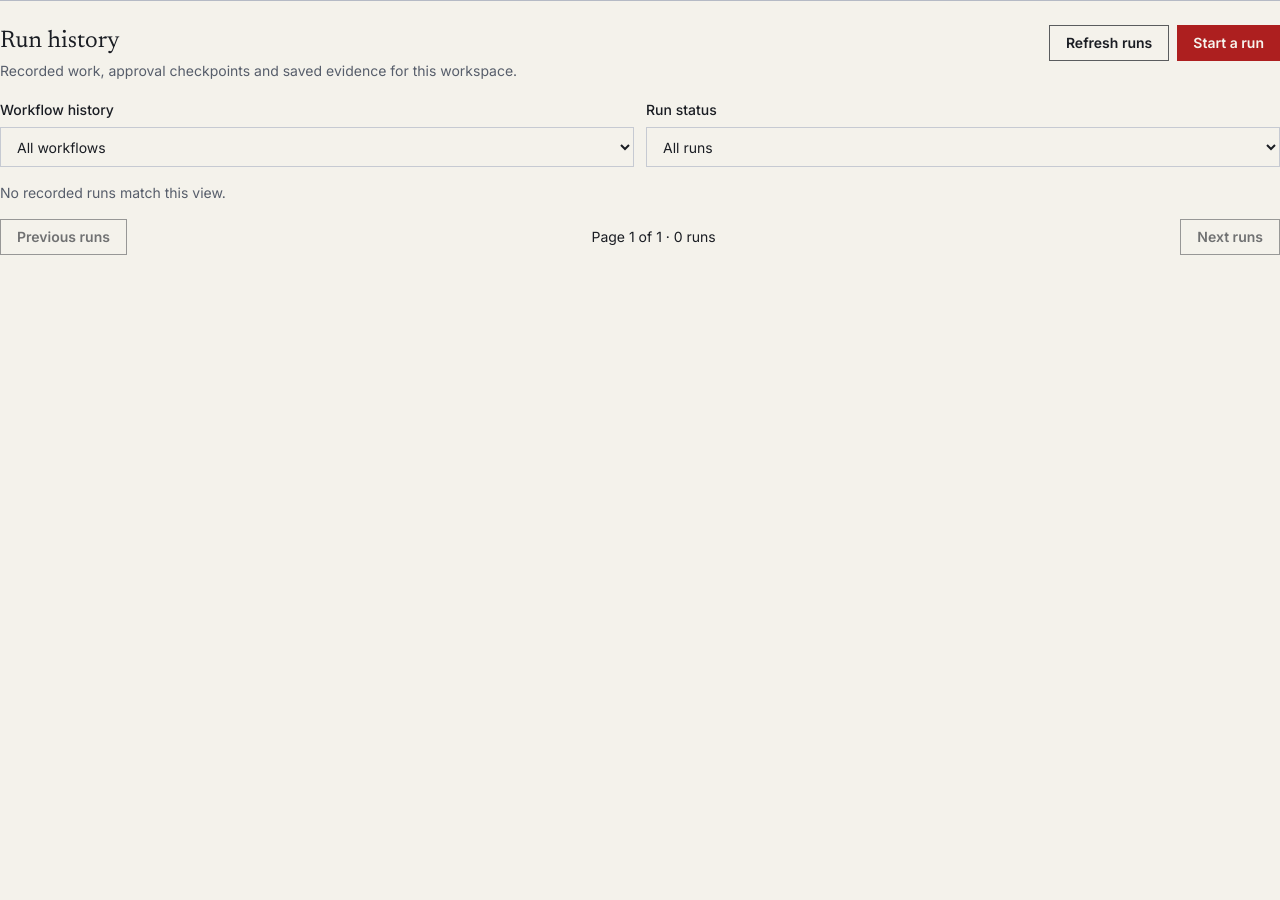
workflow run history and start › starts a saved workflow and opens the server snapshot with a mission link
Click the button "Start a run".
click(1229, 43)  # box [1177,25,1279,61]
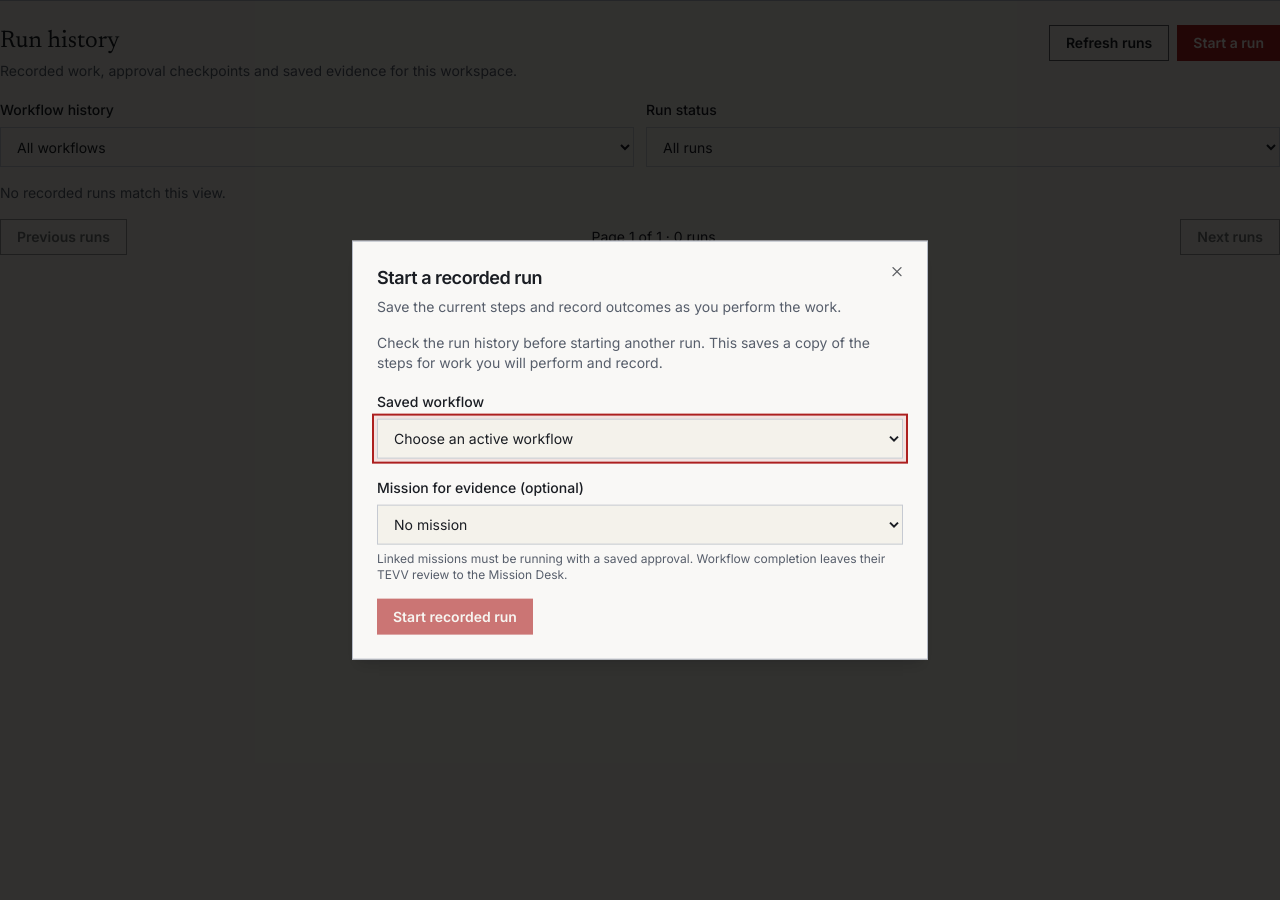
Select "Weekly check" in the dropdown labelled "Saved workflow" at x=640, y=438, box [377,418,903,458]
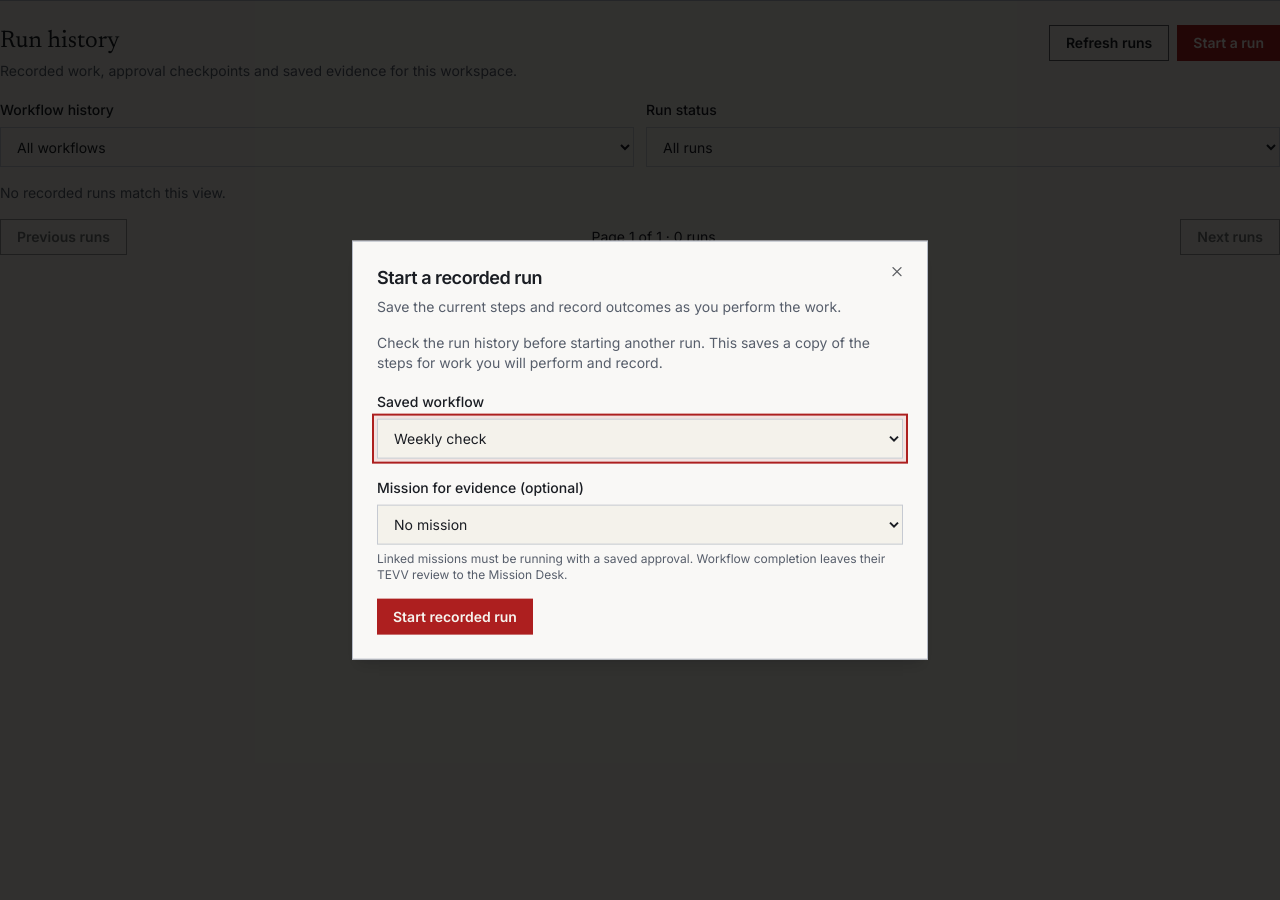
Result: the dropdown labelled "Mission for evidence (optional)" is enabled
Select "Measured mission" in the dropdown labelled "Mission for evidence (optional)" at x=640, y=524, box [377,504,903,544]
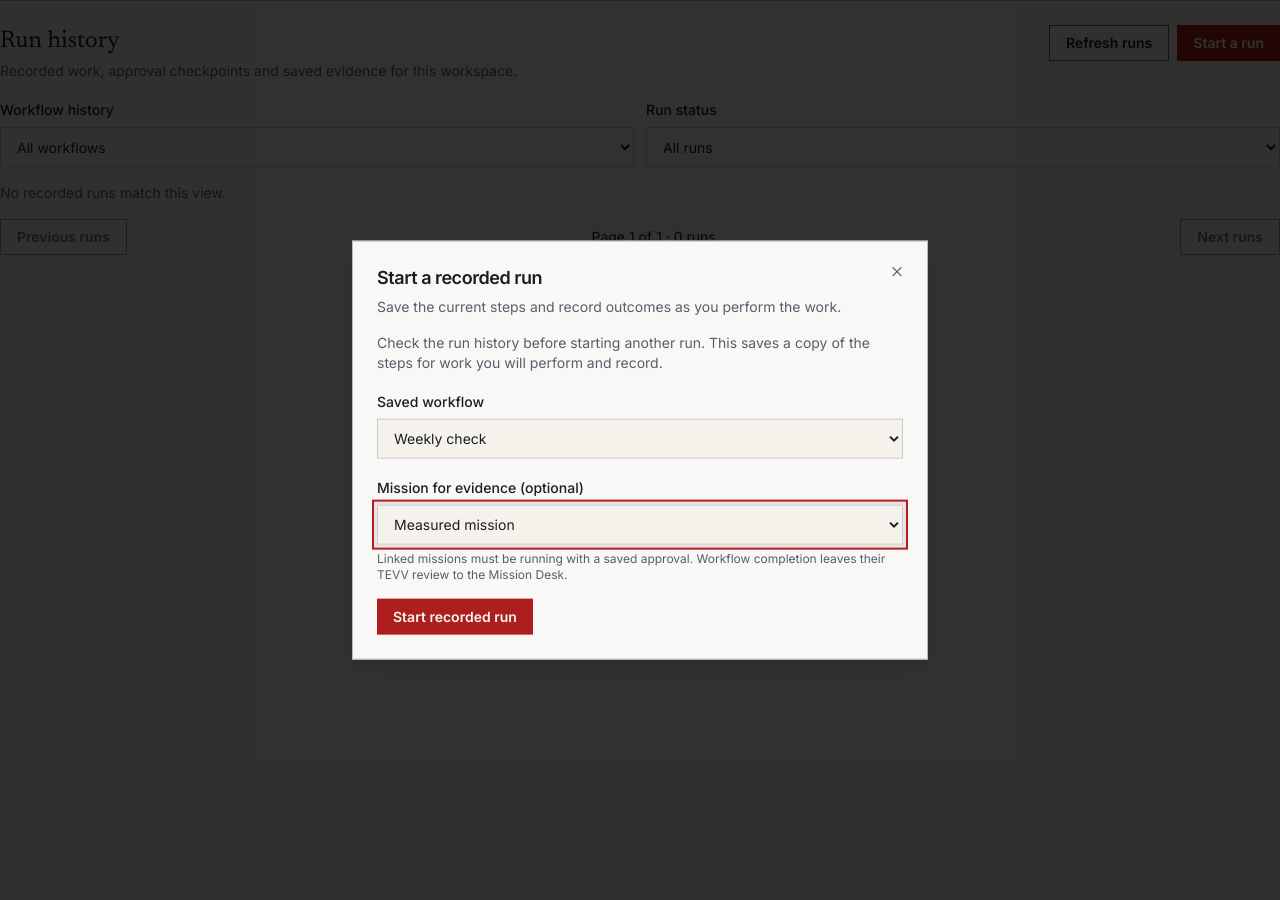
Click the button "Start recorded run".
click(455, 616)  # box [377,598,533,634]
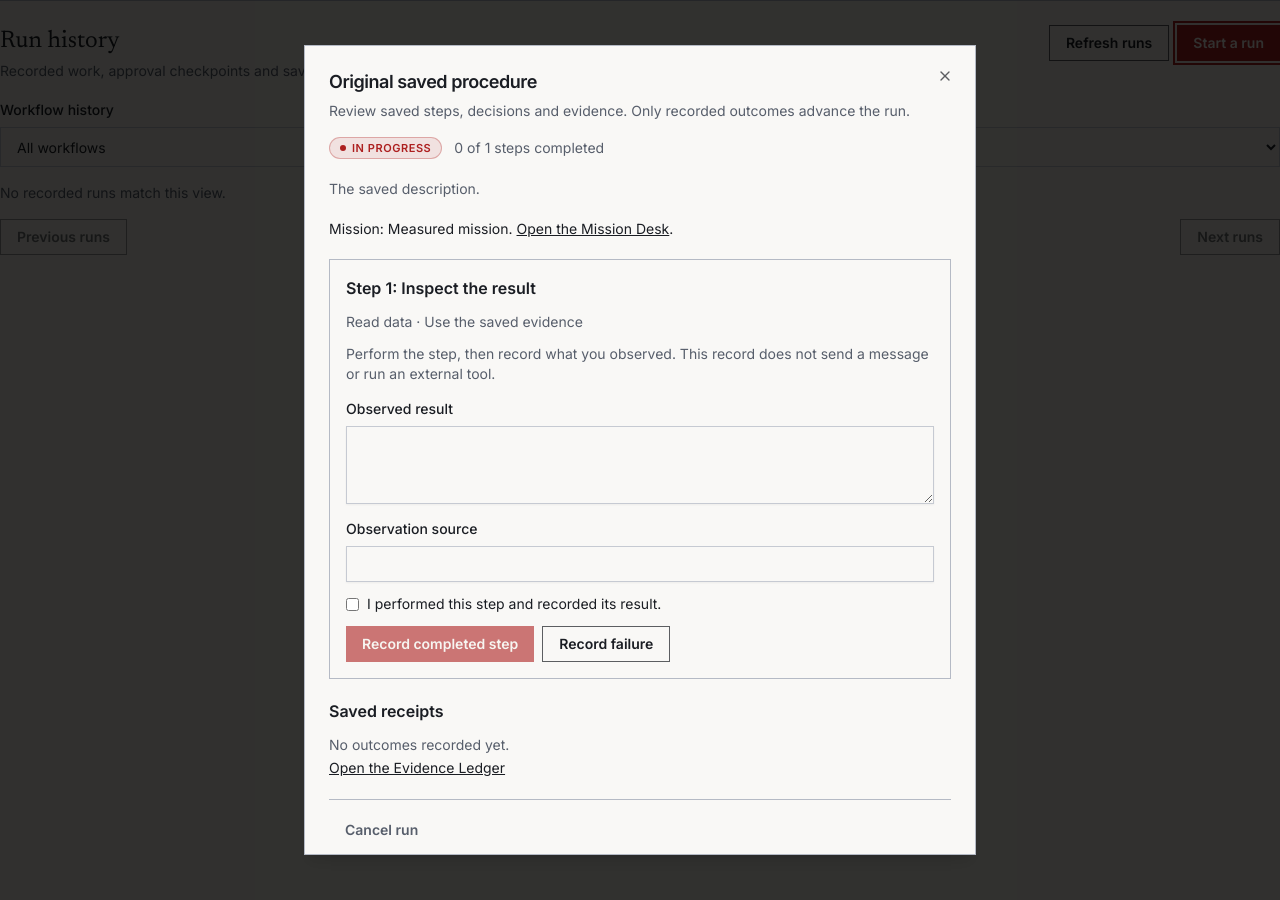
Result: the heading "Original saved procedure" is shown at [329,71,537,92]
Result: the text "Mission: Measured mission. Open the Mission Desk ." is shown at [329,220,673,237]
